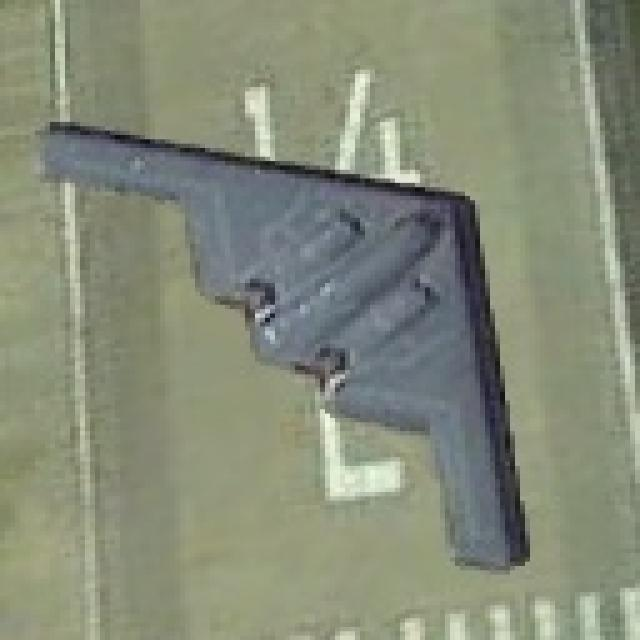B-2_TopDown: (30, 92, 540, 570)
